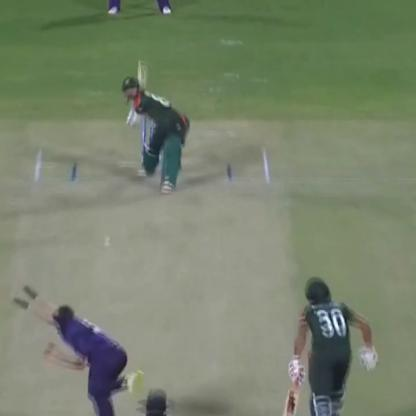bat: (279, 360, 310, 415), (125, 55, 152, 93), (100, 240, 111, 250), (103, 234, 111, 242)
pitch: (6, 134, 294, 416)
